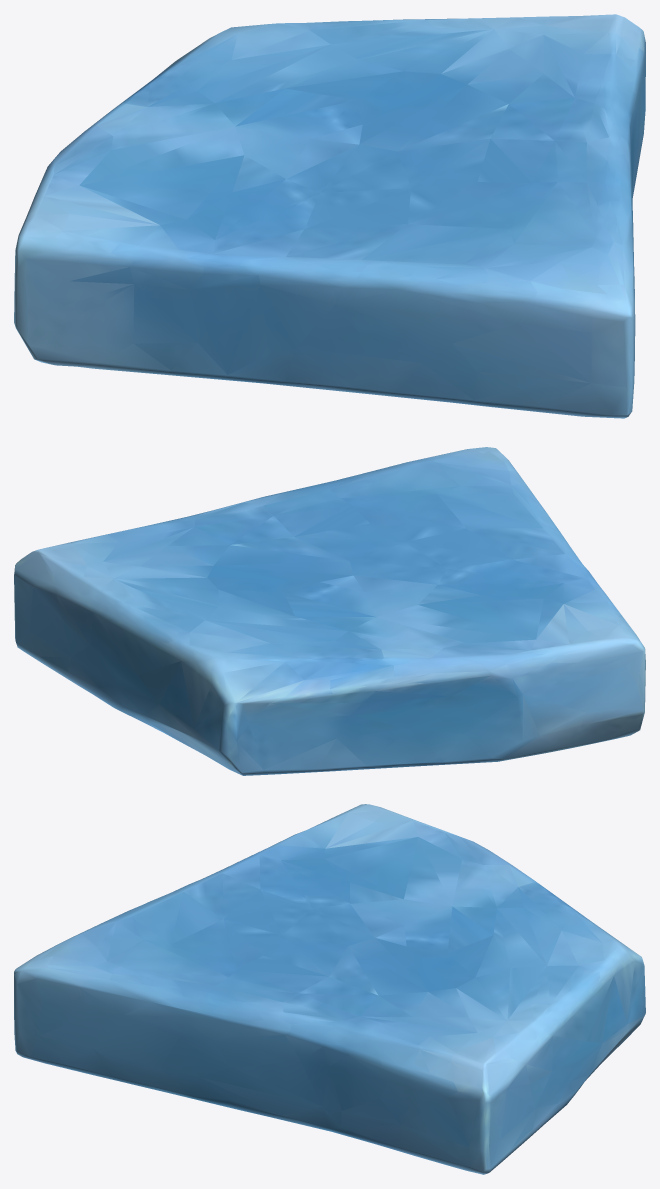
File: placa_hielo_rota_1_1200.glb
3 renders of one model, top to bottom at view 1: azimuth 30°, elevation 25°; view 2: azimuth 150°, elevation 25°; view 3: azimuth 270°, elevation 25°, orthographic. The views are drawn at different scales.
Visible parts, largest first — view 1: placa_hielo_rota_1_malla; view 2: placa_hielo_rota_1_malla; view 3: placa_hielo_rota_1_malla.
Boxes of the visible parts, left/top/right/bottom form: placa_hielo_rota_1_malla: left=14, top=14, right=645, bottom=418; placa_hielo_rota_1_malla: left=14, top=447, right=645, bottom=775; placa_hielo_rota_1_malla: left=14, top=804, right=645, bottom=1174.
Size of the model in its own units: 0.1528 by 0.0277 by 0.1469.
1 material, 1 textured.
